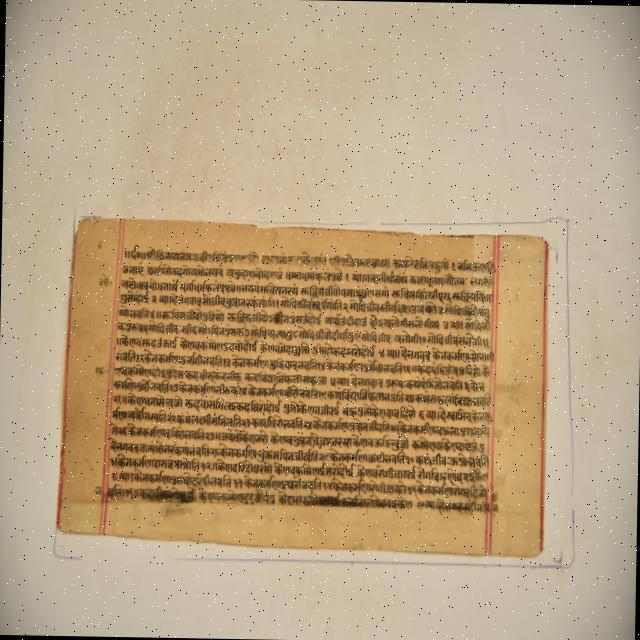text_paragraph: (53, 218, 549, 563)
